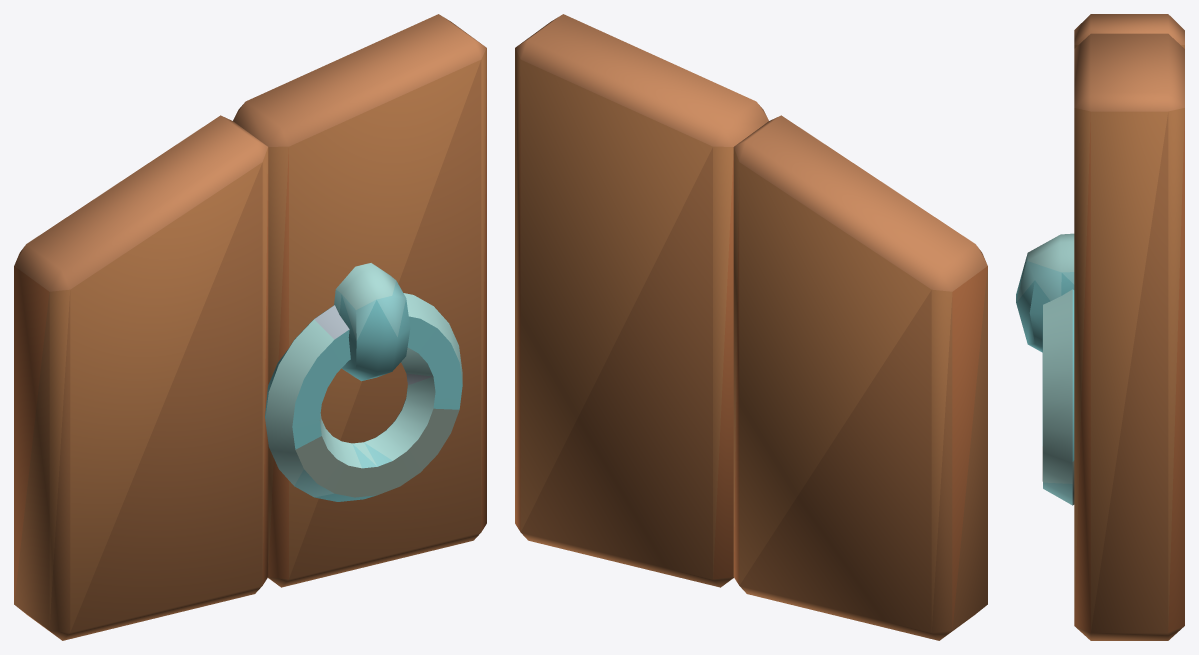
File: itch_tiny_homely_house_gate_double_left.glb
3 renders of one model, left to right at view 1: azimuth 30°, elevation 25°; view 2: azimuth 150°, elevation 25°; view 3: azimuth 270°, elevation 25°, orthographic. The views are drawn at different scales.
Parts seen in each view (by area): view 1: gate_double_left; view 2: gate_double_left; view 3: gate_double_left.
Part boxes in pixels (bbox=[...]): gate_double_left: bbox=[14, 14, 486, 640]; gate_double_left: bbox=[515, 14, 987, 640]; gate_double_left: bbox=[1016, 14, 1184, 640].
Bounding box in the file's own units: 1.18 × 1.29 × 0.36.
